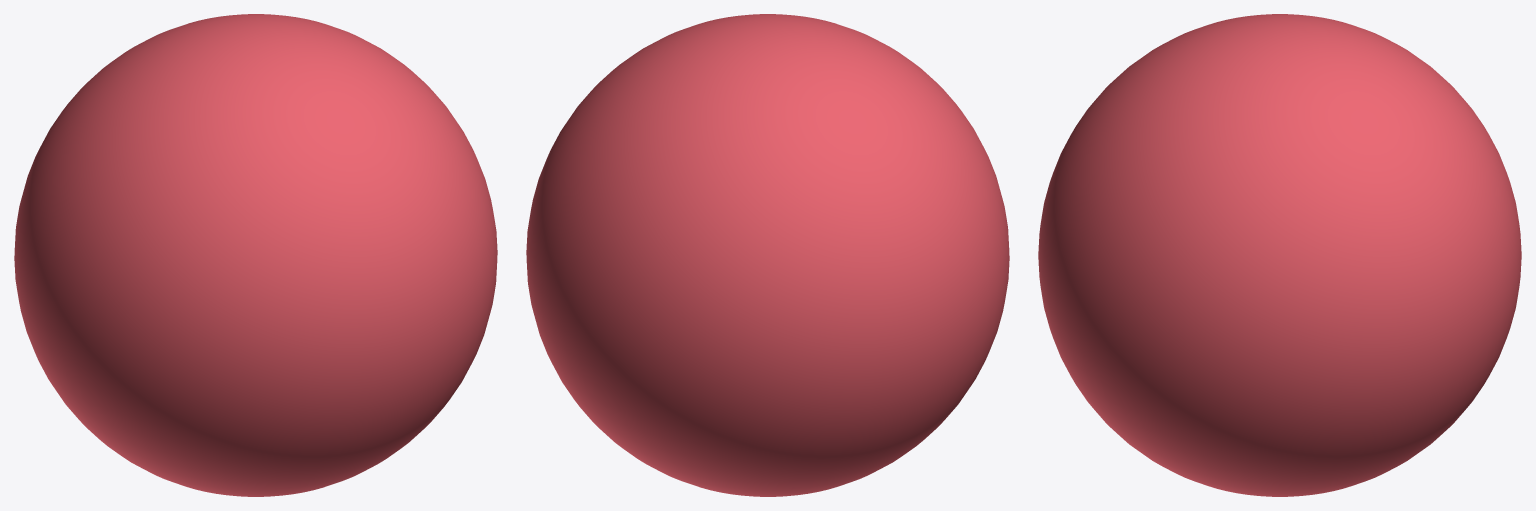
The model's file is sphr.glb.
3 views of the same model, side by side, from view 1: azimuth 30°, elevation 25°; view 2: azimuth 150°, elevation 25°; view 3: azimuth 270°, elevation 25° (orthographic).
Parts seen in each view (by area): view 1: sphr; view 2: sphr; view 3: sphr.
Boxes of the visible parts, x1=… form: sphr: x1=14, y1=14, x2=497, y2=496; sphr: x1=526, y1=14, x2=1009, y2=496; sphr: x1=1038, y1=14, x2=1521, y2=496.
Bounding box in the file's own units: 2 × 2 × 2.
Materials: 1 (1 with a texture image).
